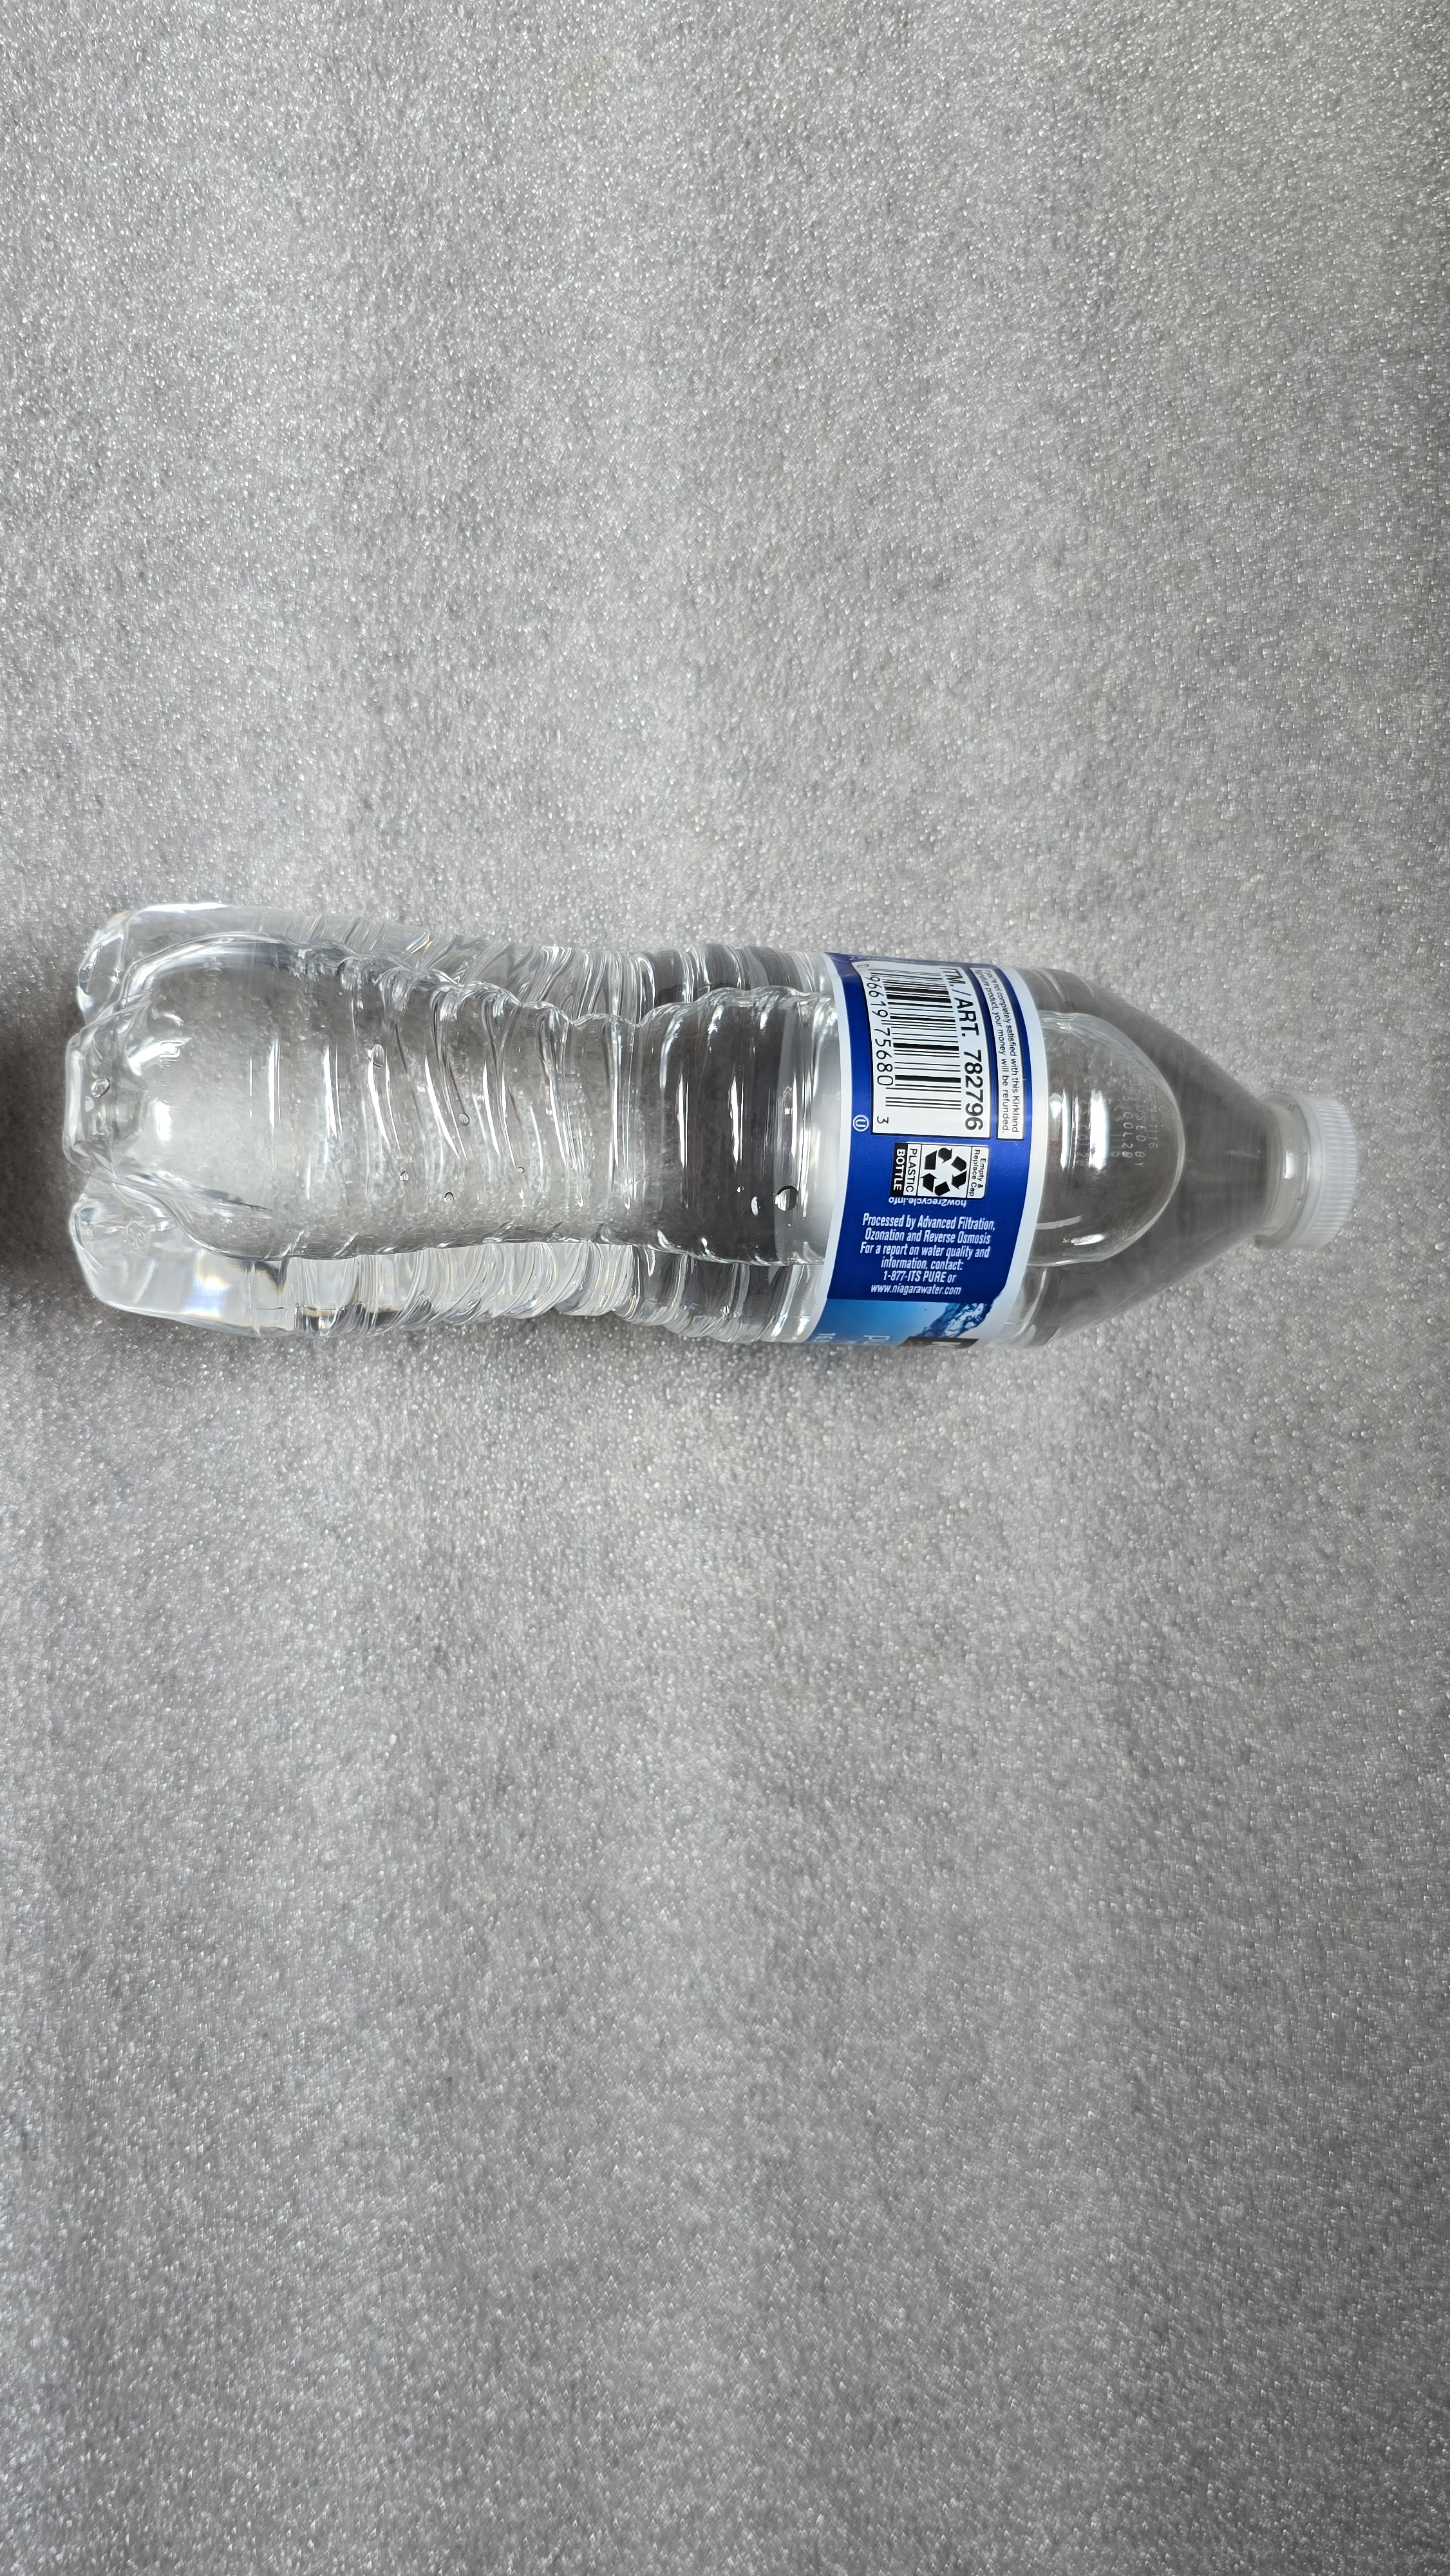bottle: (39, 862, 1397, 1414)
